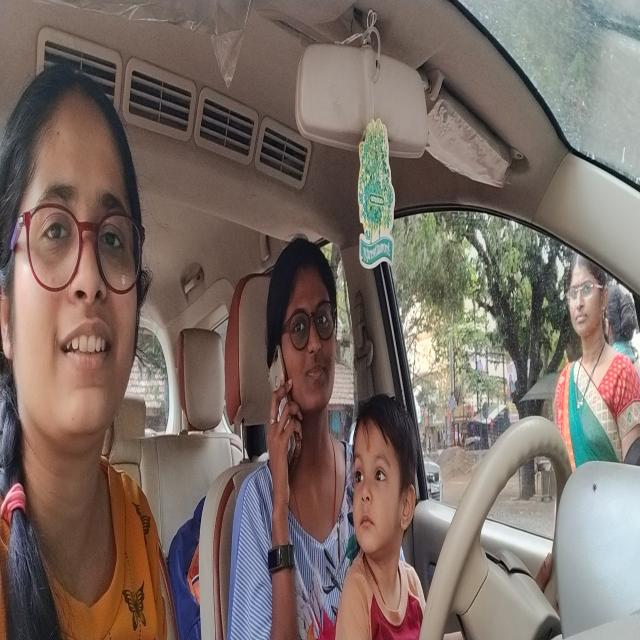child: (346, 400, 414, 553)
mobile: (266, 353, 290, 410)
person: (1, 86, 146, 438), (270, 245, 337, 413)
